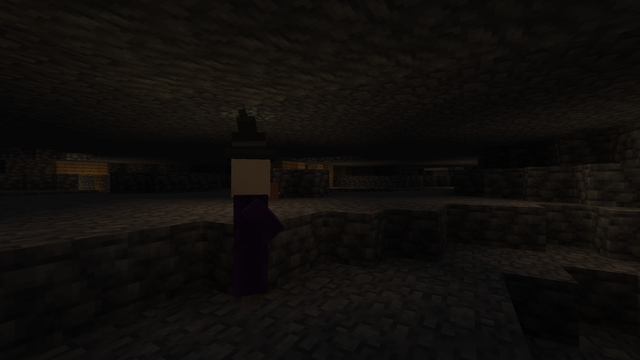sorcieres: (216, 151, 282, 317)
